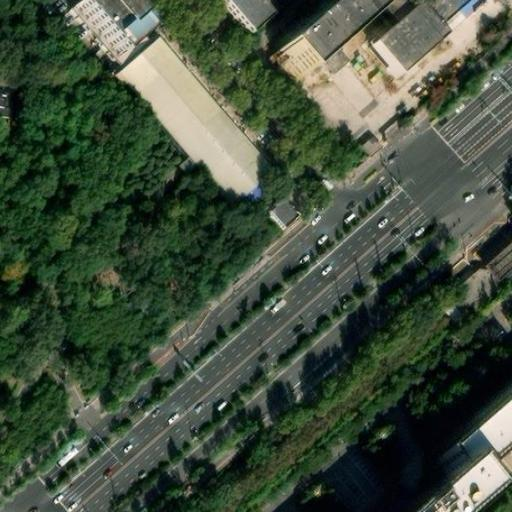building: (116, 36, 279, 209), (355, 21, 432, 97), (444, 394, 512, 477), (415, 465, 499, 512), (121, 2, 161, 40), (266, 195, 302, 231), (354, 128, 382, 155), (0, 89, 18, 118)
